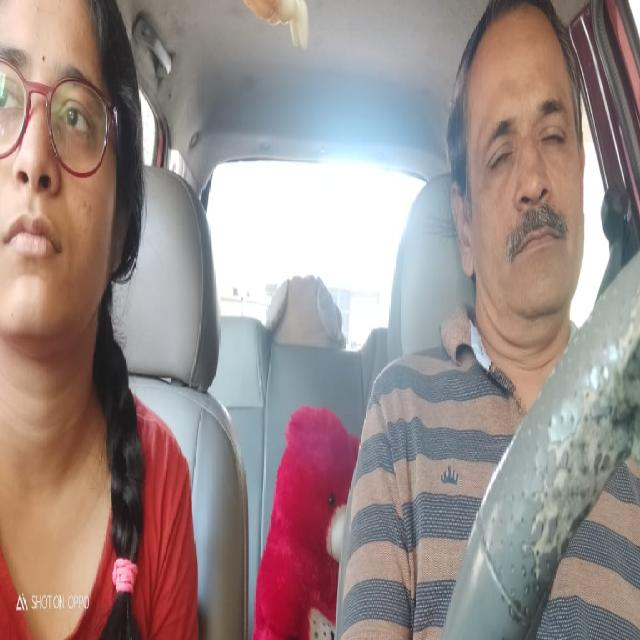drowsy: (442, 13, 588, 320)
person: (0, 5, 135, 345)
